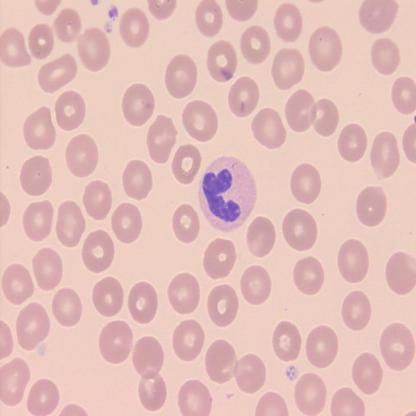Band Neutrophil: (195, 152, 260, 234)
